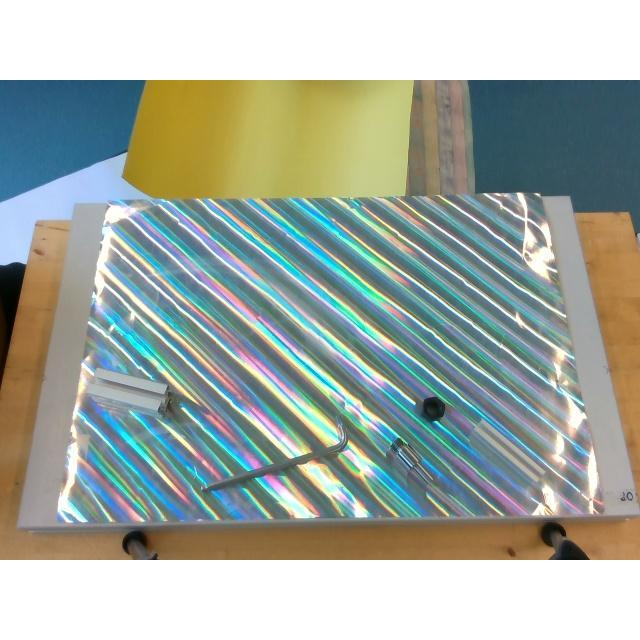AllenKey: (201, 416, 349, 492)
Axis2: (389, 437, 431, 487)
F20_20_G: (467, 420, 543, 486)
M20: (422, 396, 446, 420)
S40_40_G: (86, 368, 168, 412)
